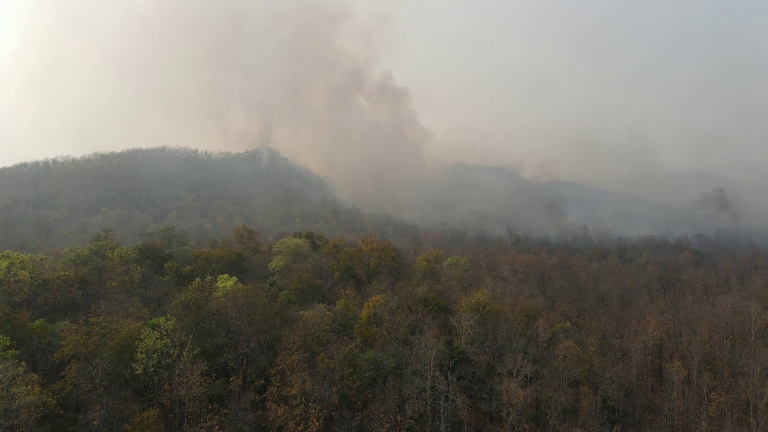smoke: (235, 7, 667, 239), (683, 184, 756, 266), (244, 101, 280, 171)
